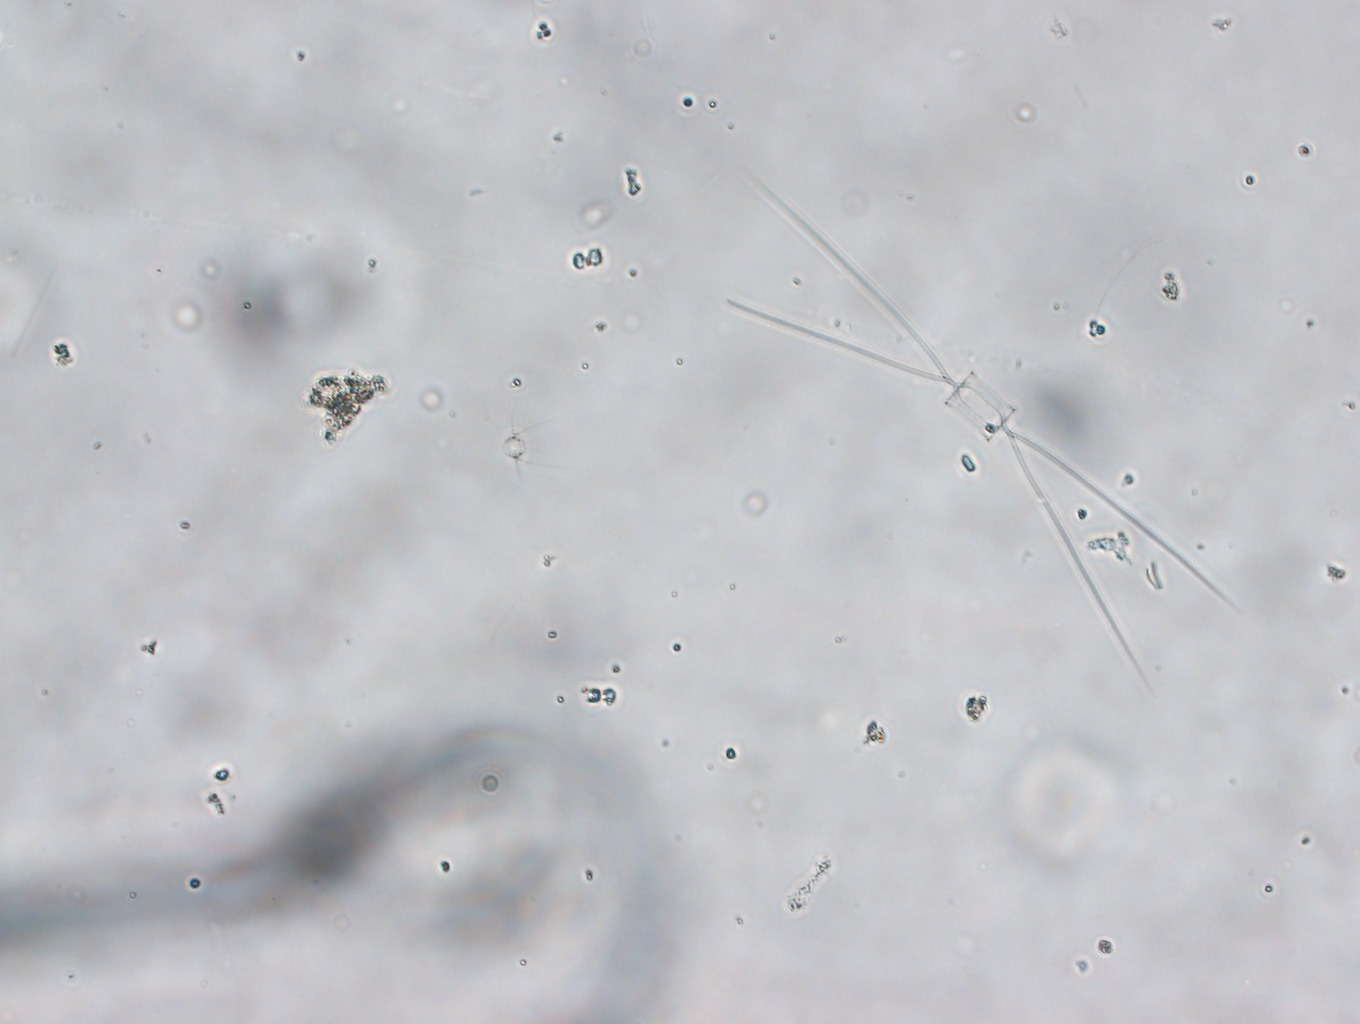chaetoceros: (726, 167, 1240, 702)
